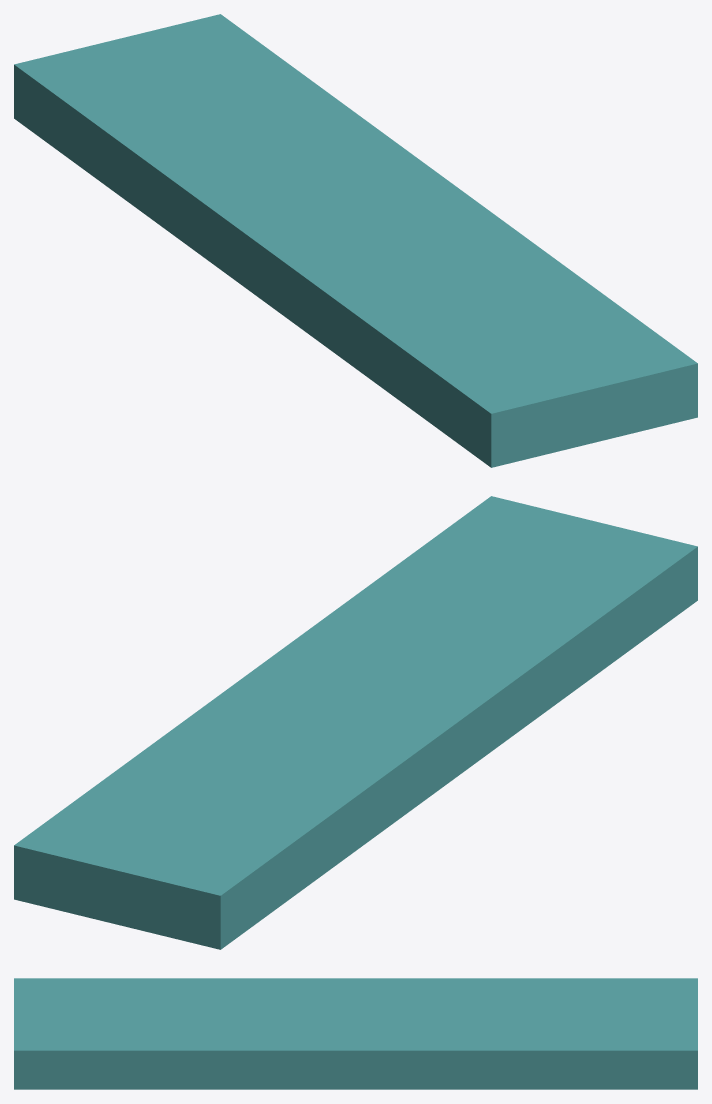
Rendered from Base_Floor_02.fbx.
The picture shows the model from 3 angles, top to bottom: view 1: azimuth 30°, elevation 25°; view 2: azimuth 150°, elevation 25°; view 3: azimuth 270°, elevation 25°; orthographic projection. The views are drawn at different scales.
Visible parts, largest first — view 1: Base_Floor_02; view 2: Base_Floor_02; view 3: Base_Floor_02.
Boxes of the visible parts, x1,y1,x2,y2 form: Base_Floor_02: (14, 14, 697, 467); Base_Floor_02: (14, 496, 697, 949); Base_Floor_02: (14, 978, 697, 1089).
Bounding box in the file's own units: 2 × 0.5 × 8.
